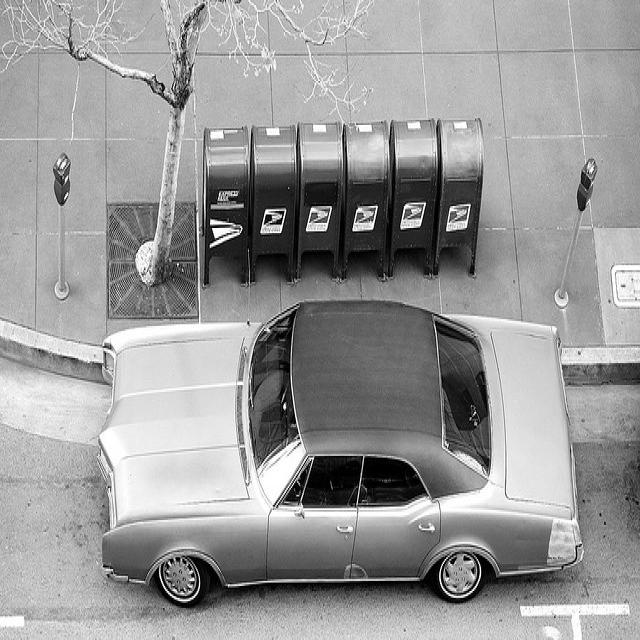Vehicle: (97, 298, 577, 618)
